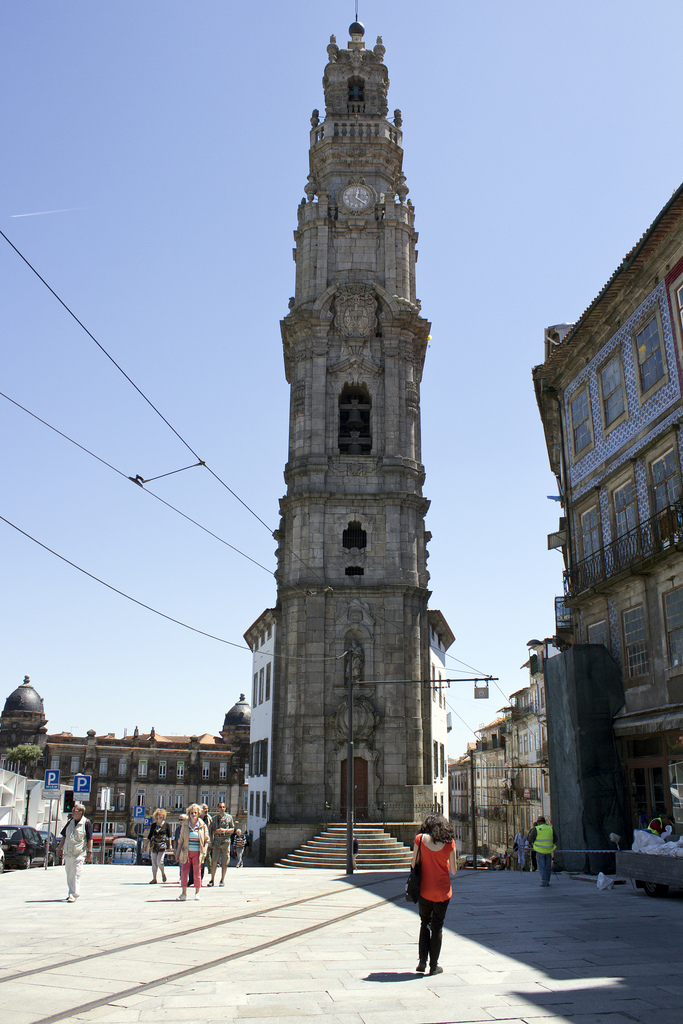clerigos: (272, 0, 432, 846)
